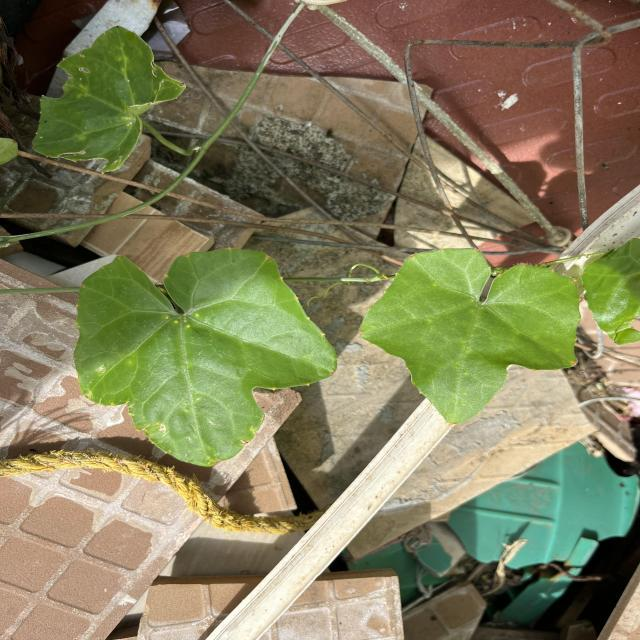Coccinia grandis: (69, 244, 341, 470), (356, 246, 585, 428)
